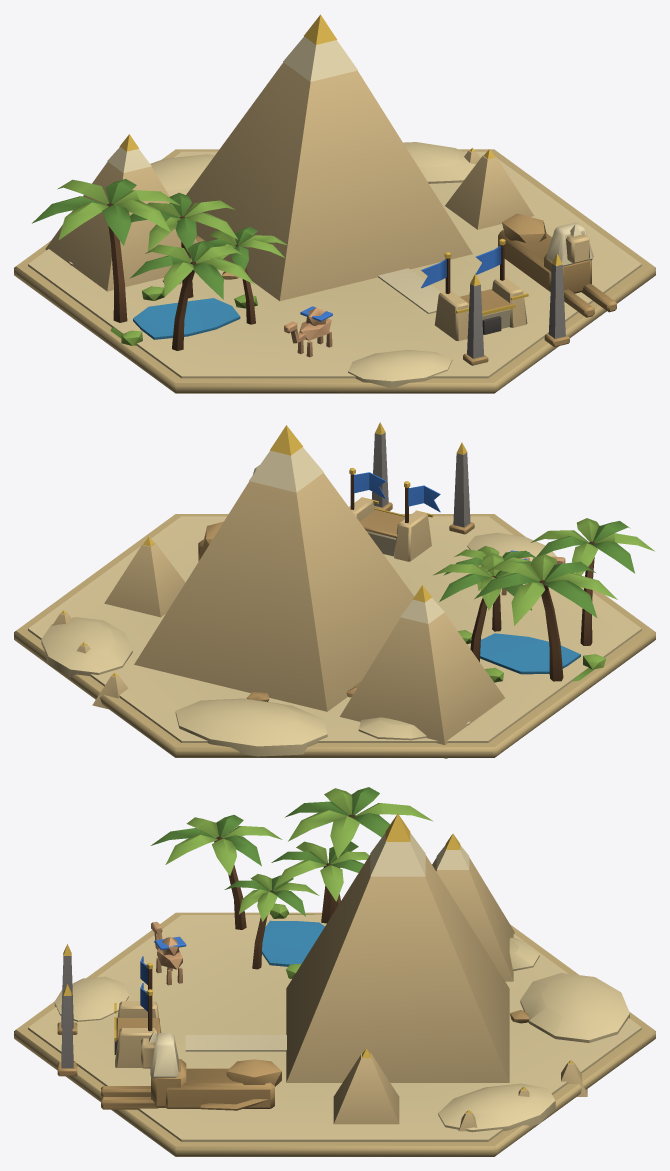
File: w_pyramids.glb
The picture shows the model from 3 angles, top to bottom: view 1: azimuth 30°, elevation 25°; view 2: azimuth 150°, elevation 25°; view 3: azimuth 270°, elevation 25°; orthographic projection.
Visible parts, largest first — view 1: w_pyramids; view 2: w_pyramids; view 3: w_pyramids.
Boxes of the visible parts, x1,y1,x2,y2 form: w_pyramids: (14,14,655,393); w_pyramids: (14,422,655,758); w_pyramids: (14,787,655,1156).
Size of the model in its own units: 1.54 by 0.664 by 1.63.
